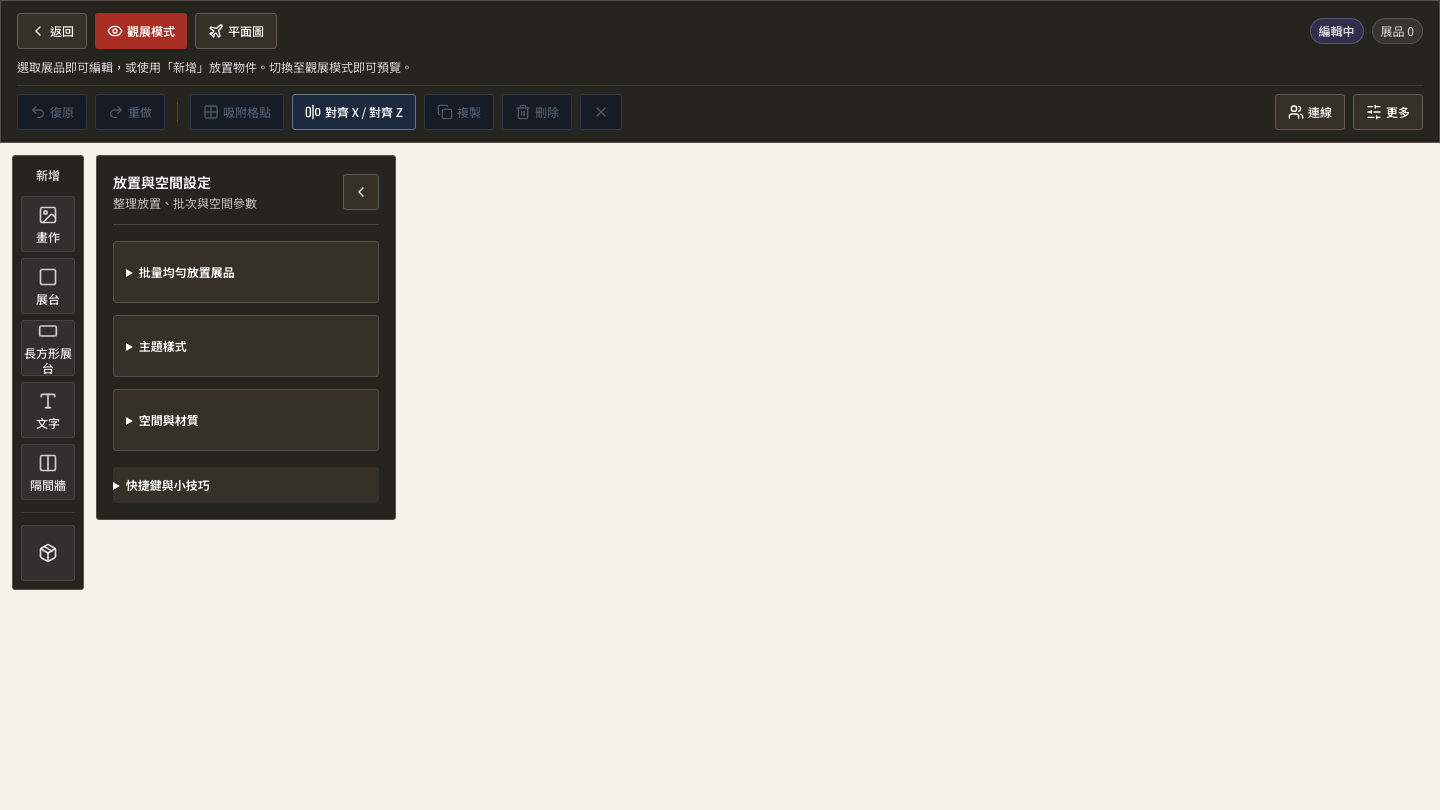
EditUI AI builder › switches auxiliary panels without stacking them over the editor
This screenshot has width=1440, height=810.
Step 1. Click the button "更多" → [1388, 112], box [1353,94,1423,130]
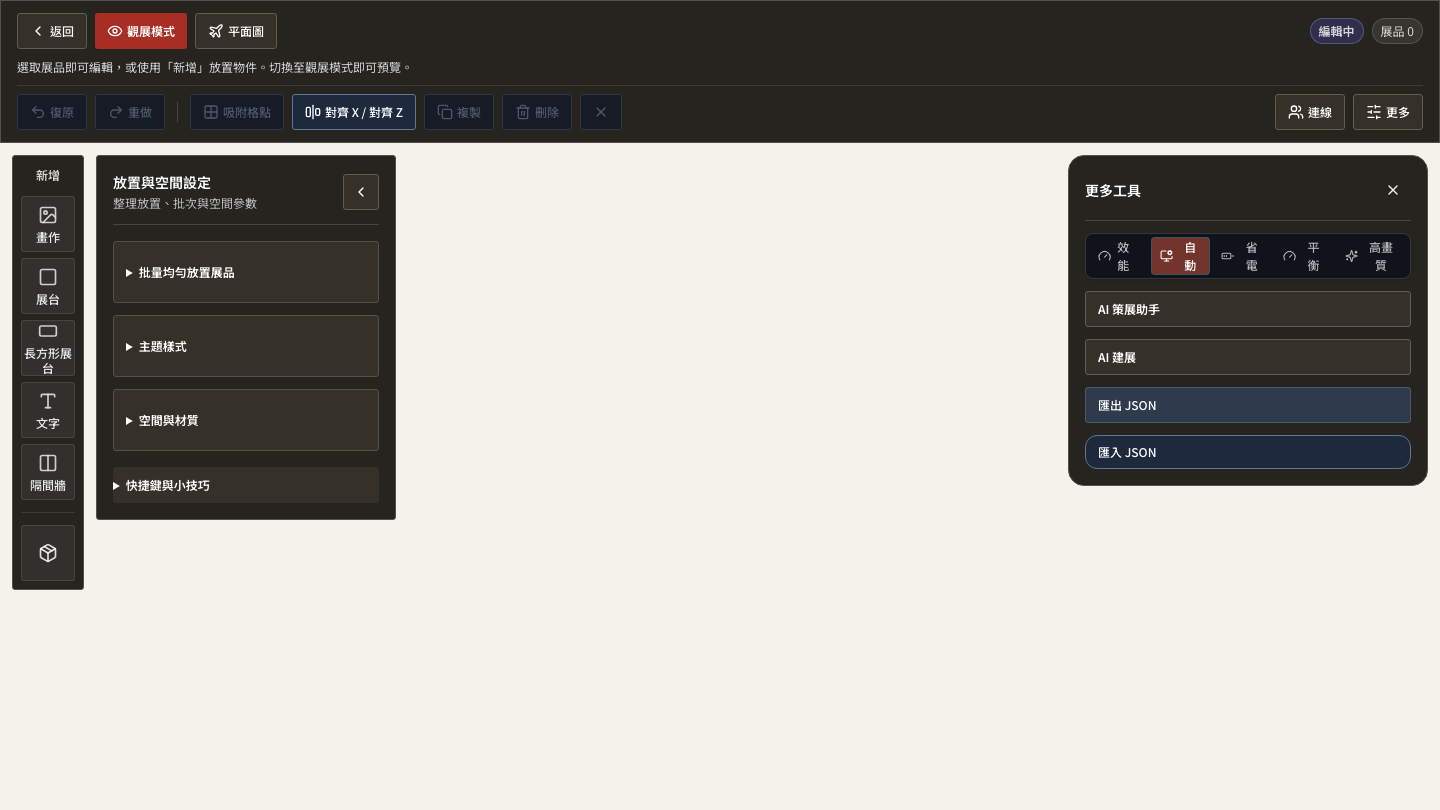
Result: the element with id "editor-more-panel" is shown at [1068,155,1428,486]
Step 2. Click the button "連線" → [1310, 112], box [1275,94,1345,130]
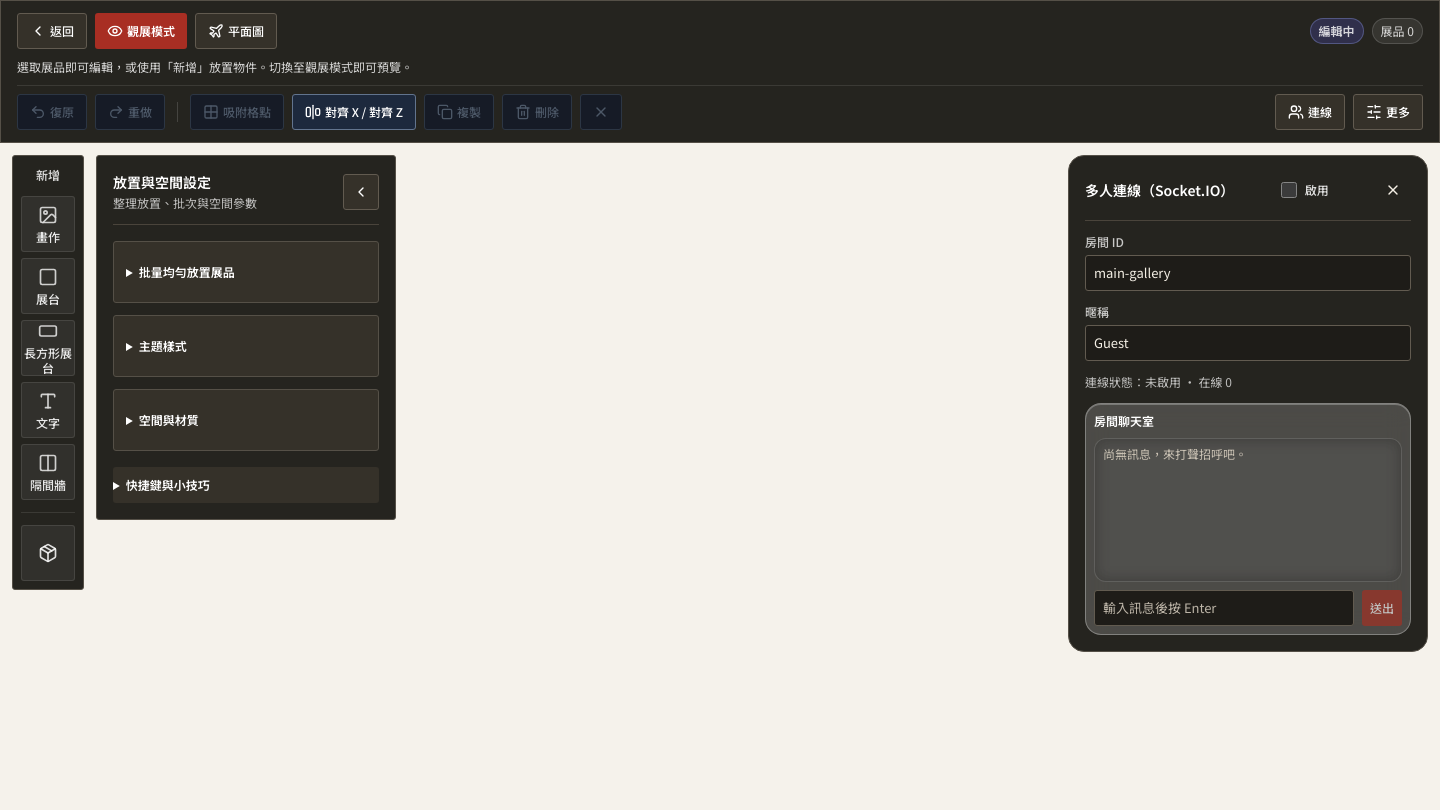
Result: the element with id "editor-more-panel" is gone
Result: the element with id "editor-network-panel" is shown at [1068,155,1428,652]
Step 3. Click the button named "模型庫" → [48, 553], box [21,525,75,581]
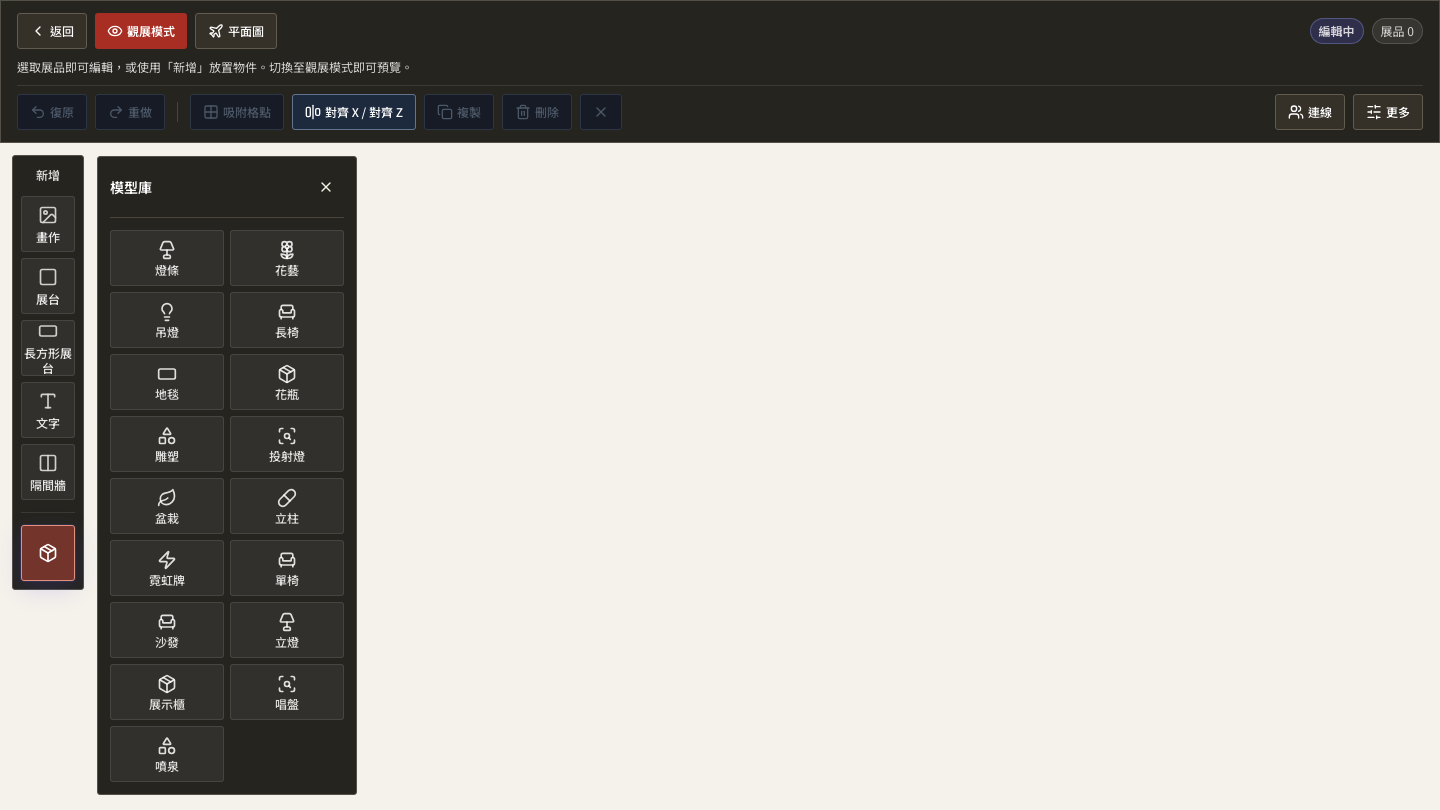
Result: the element with id "editor-network-panel" is gone
Result: the element with id "editor-model-library" is shown at [97,156,357,795]
